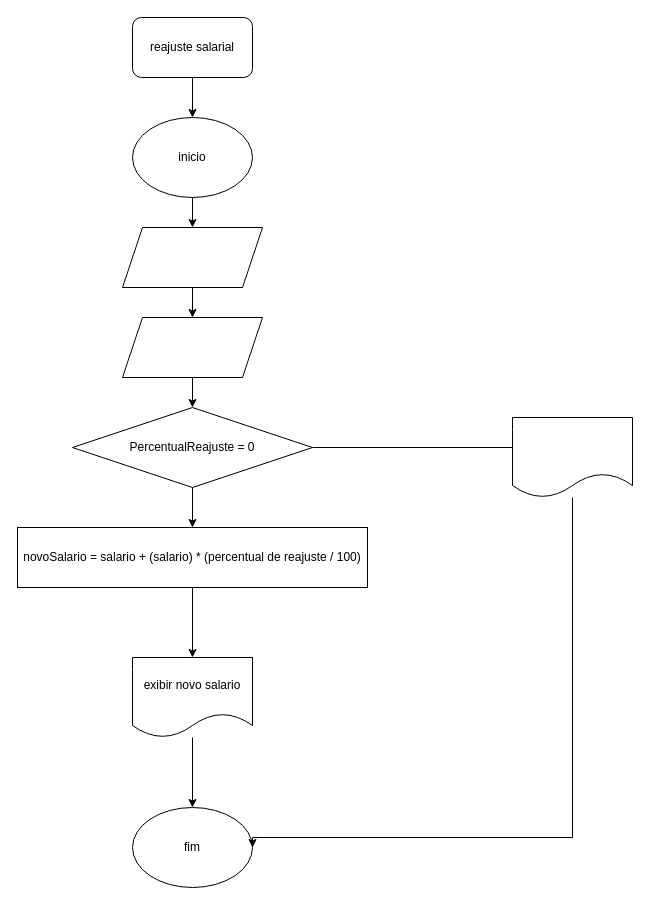
The diagram is 650 pixels wide and 905 high, and some of its shapes have lost their labels. The box of each missing label's shape, as (x1, y1, x2, y2) in pixels:
leia(percentual de reajuste): (122, 316, 262, 378)
leia(Salario): (122, 226, 262, 288)
Percentual não pode ser 0: (512, 416, 632, 498)
